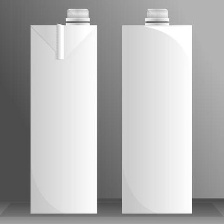carton: (117, 6, 196, 216), (24, 6, 100, 217)
